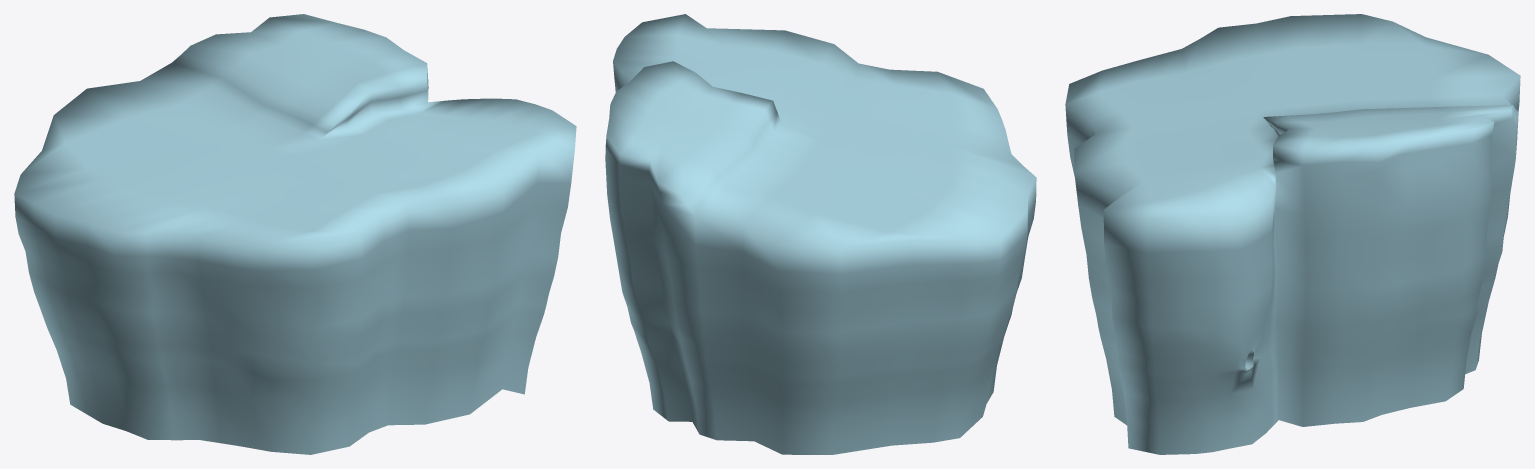
File: Cave.fbx
3 views of the same model, side by side, from view 1: azimuth 30°, elevation 25°; view 2: azimuth 150°, elevation 25°; view 3: azimuth 270°, elevation 25° (orthographic). The views are drawn at different scales.
Parts seen in each view (by area): view 1: Cave Outside.001; view 2: Cave Outside.001; view 3: Cave Outside.001.
Part boxes in pixels (x1,y1,x2,y2): Cave Outside.001: [14, 14, 576, 454]; Cave Outside.001: [605, 14, 1036, 454]; Cave Outside.001: [1065, 14, 1520, 454].
Bounding box in the file's own units: 10375 × 5965 × 8430.
